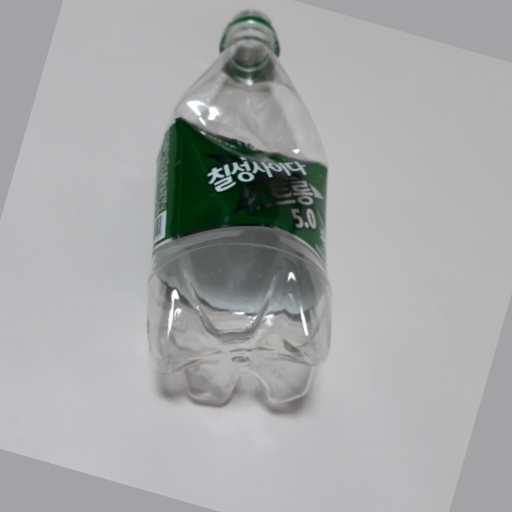Plastic_0: (153, 8, 333, 419)
